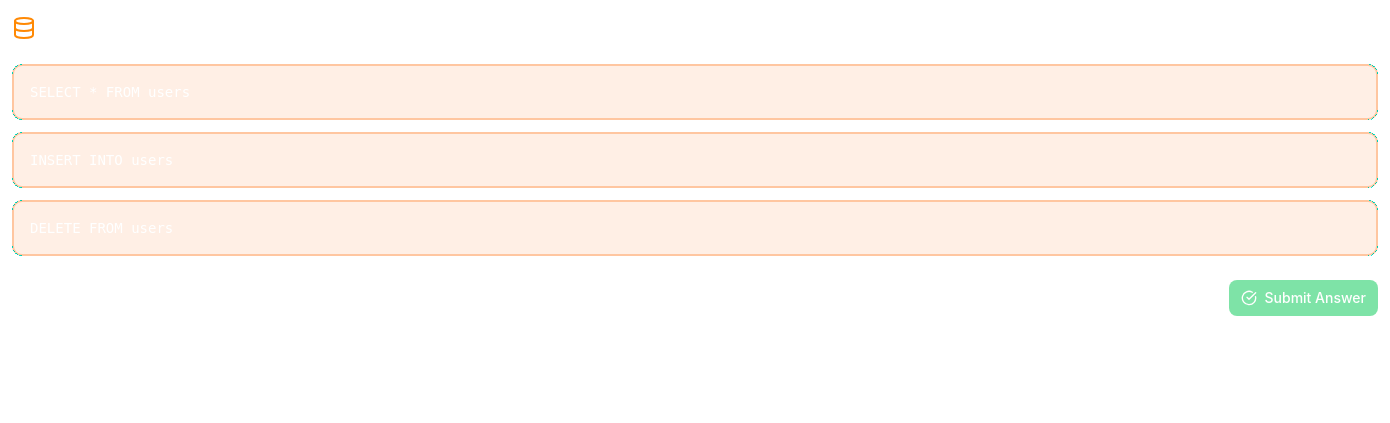
SelectQuery › feedback › shows success feedback after correct answer
Click the button "SELECT * FROM users" at (110, 92), box [12, 64, 1378, 120]
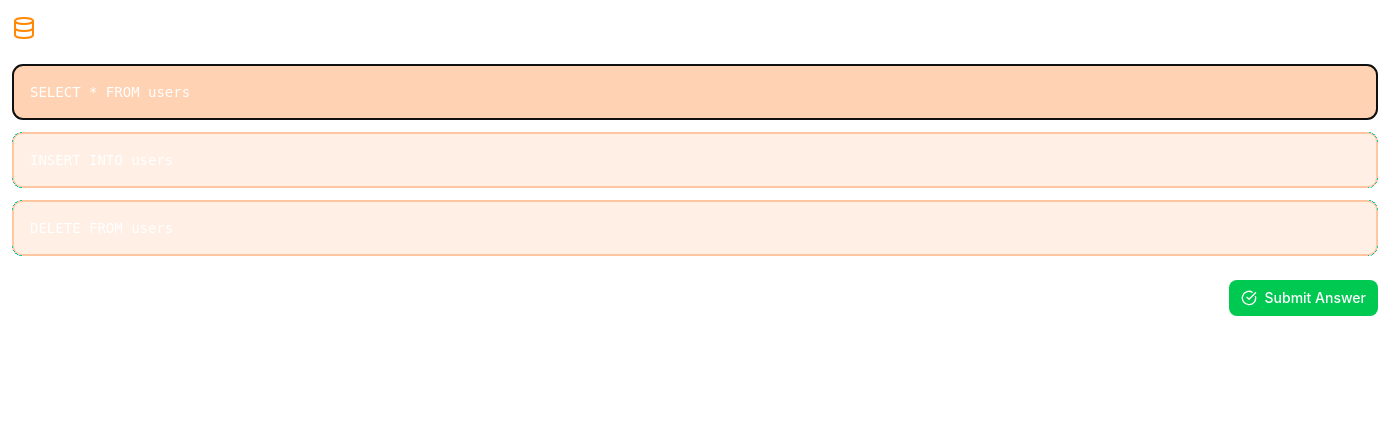
Click the button "Submit Answer" at (1303, 298), box [1228, 280, 1378, 316]
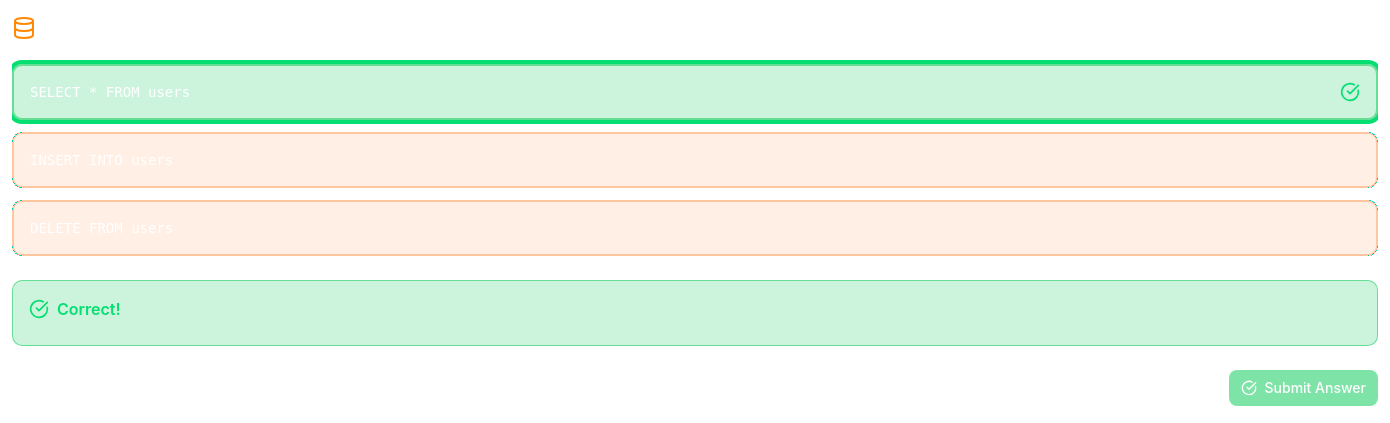
Result: the text "Correct!" is shown at [57, 297, 121, 321]
